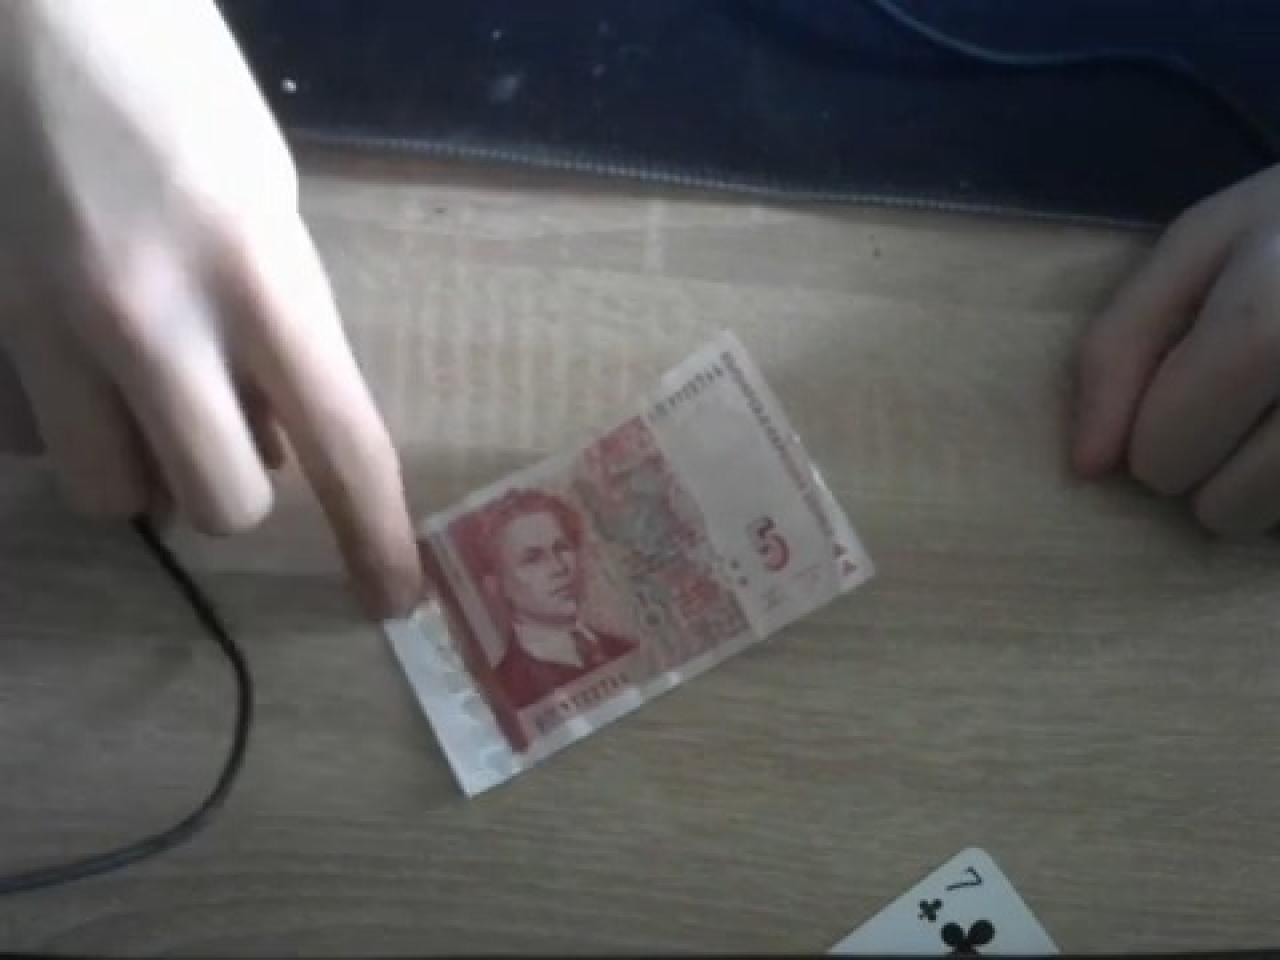5leva: (384, 336, 877, 800)
